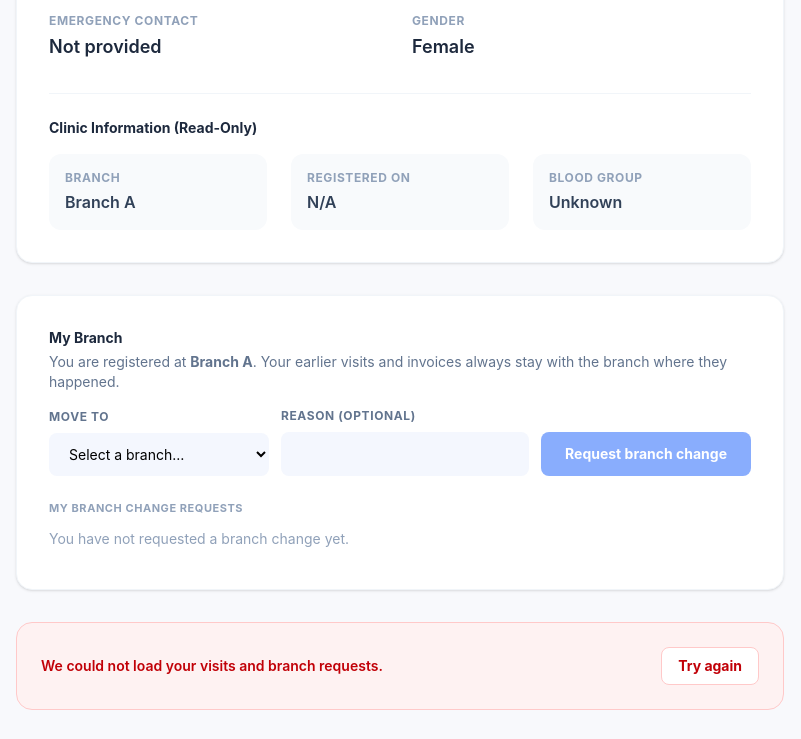
Test: PatientProfile › keeps the profile visible and offers a retry when the visits and requests fail to load
(page scrolled)
Expected: the message shows "could not load your visits", [41,656,383,674]
Click the button "Try again" at (710, 666), box [661,646,759,684]
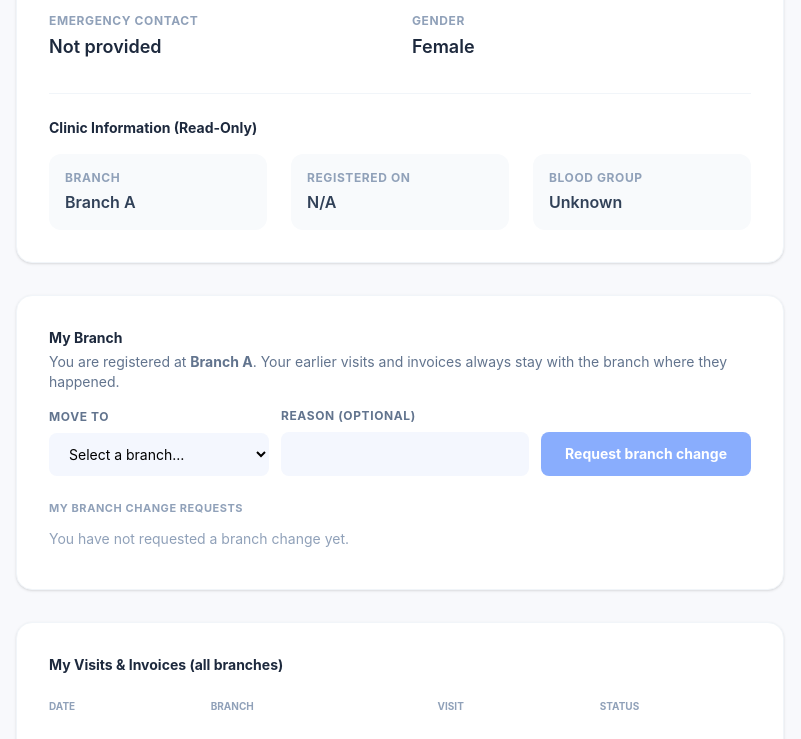
Now the message "We could not load your visits and branch requests. Try again" is gone
